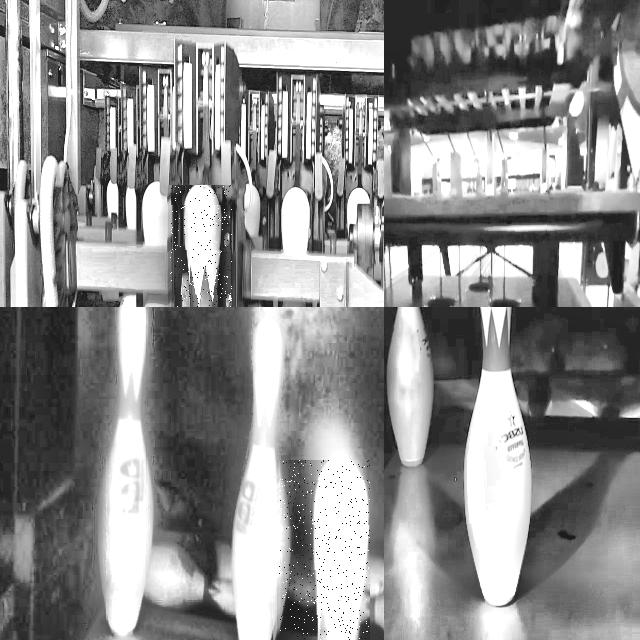bowling-pins: (464, 307, 531, 605), (97, 307, 152, 634), (232, 318, 285, 640), (309, 461, 365, 640), (386, 307, 432, 465), (180, 186, 217, 307)
